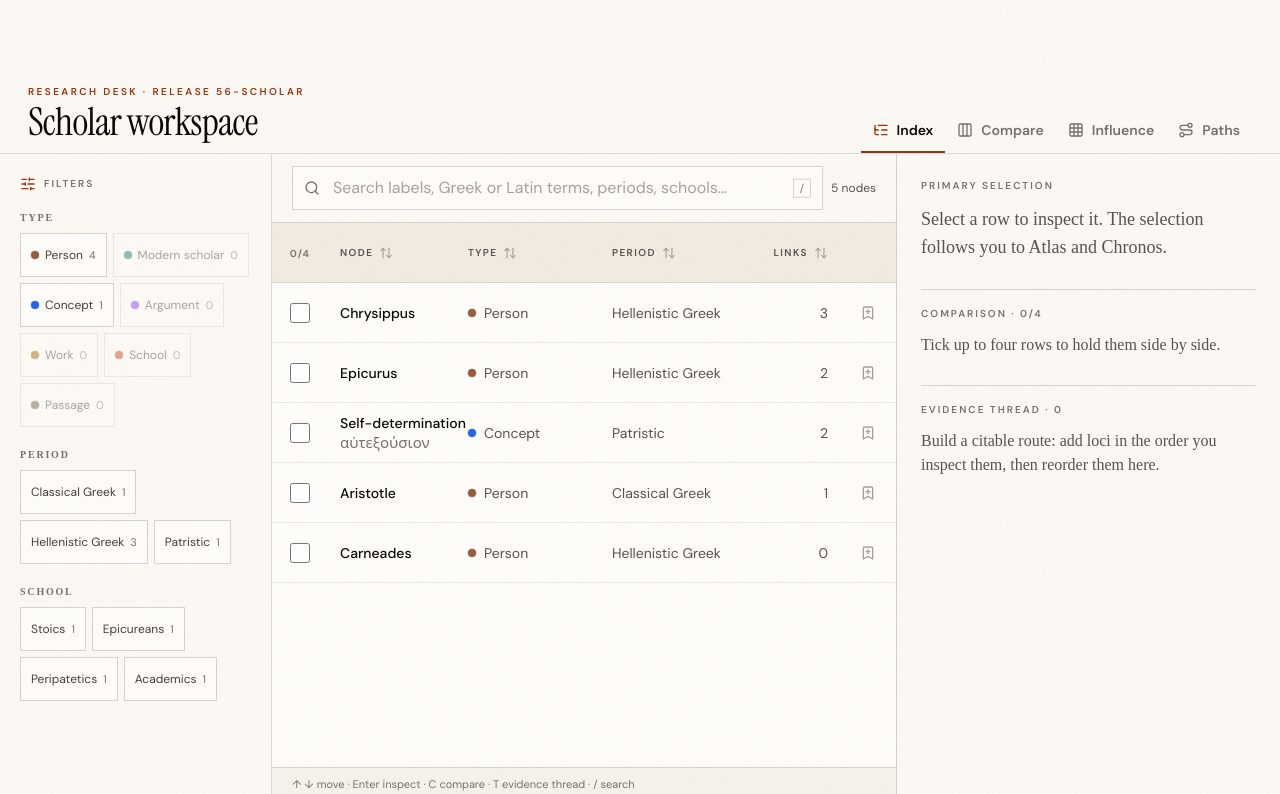
Scenario: ScholarWorkspace › supports keyboard navigation, caps comparison at four, and opens the compare view
This screenshot has width=1280, height=794.
Expected: the button "Chrysippus" is shown, [328,291,456,335]
Click the search field named "Search this release" at (558, 188), box [292,166,823,210]
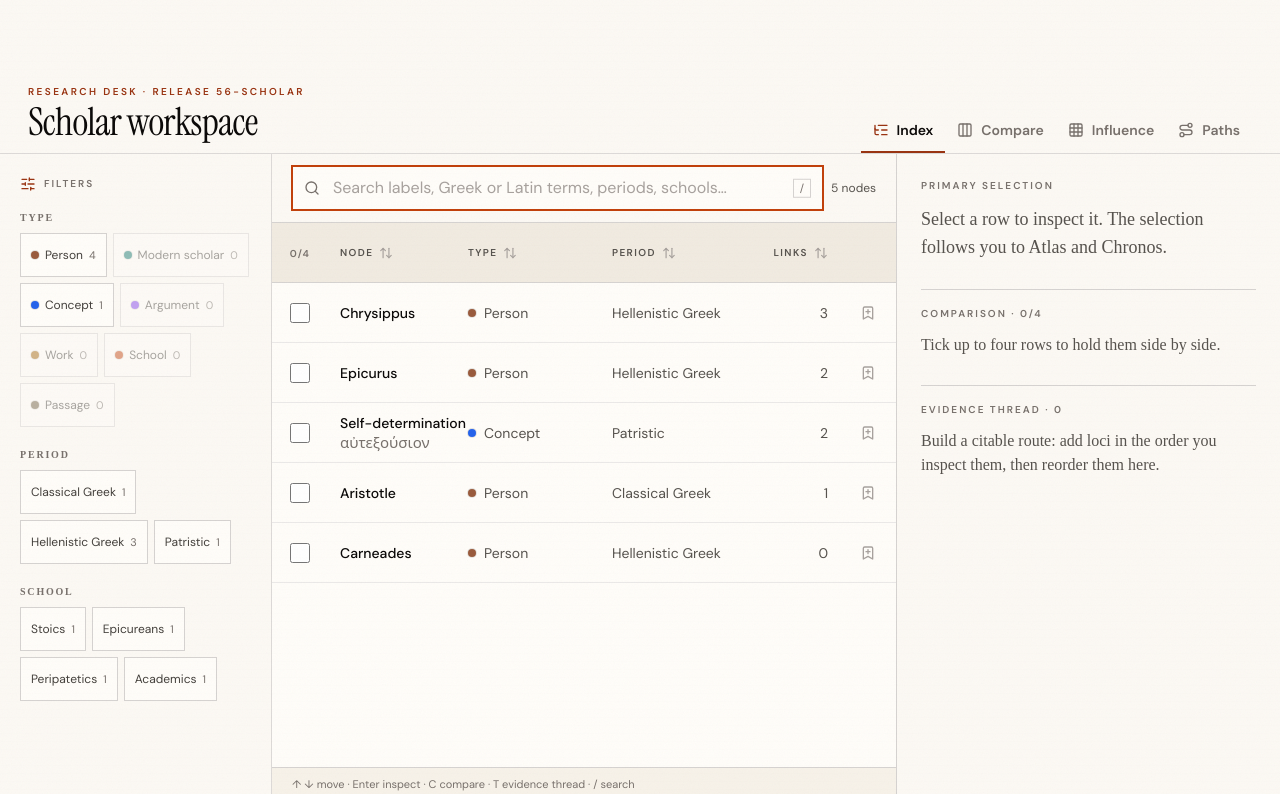
Press Arrowdown
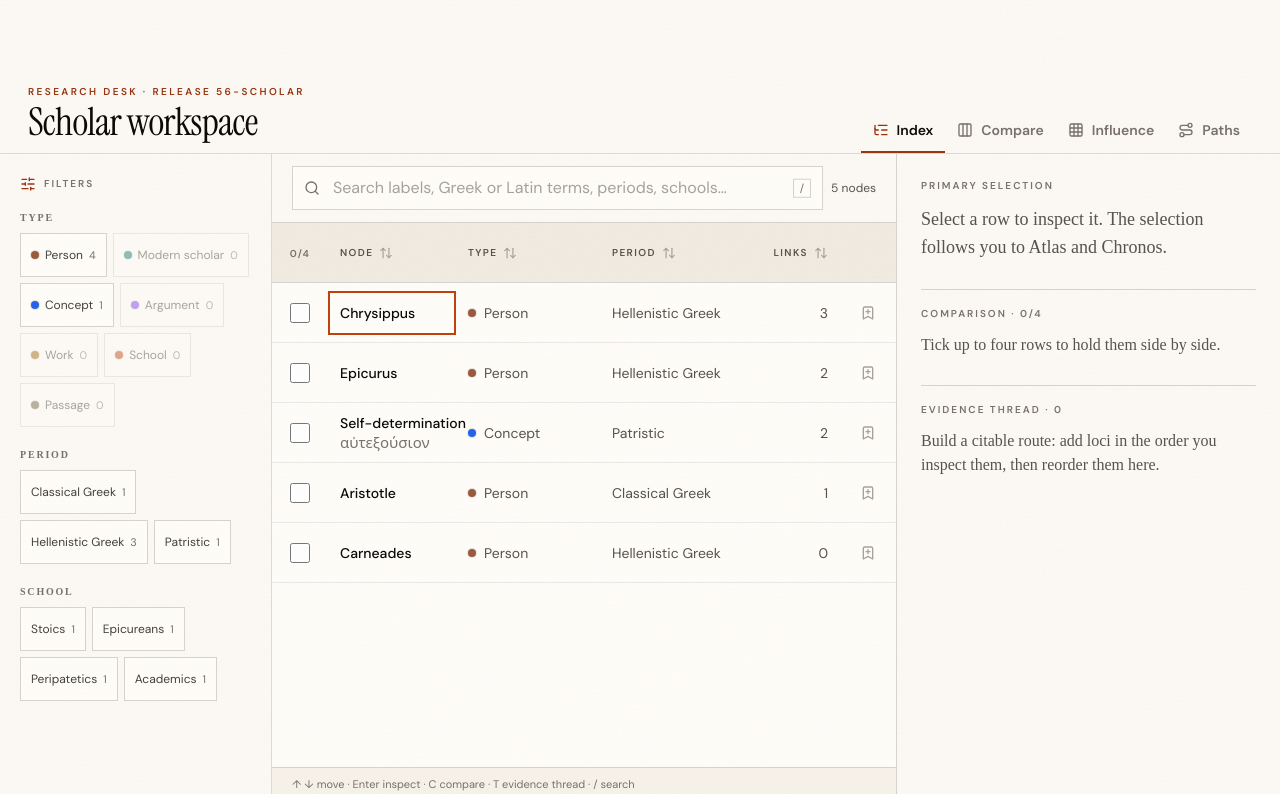
Press Arrowdown
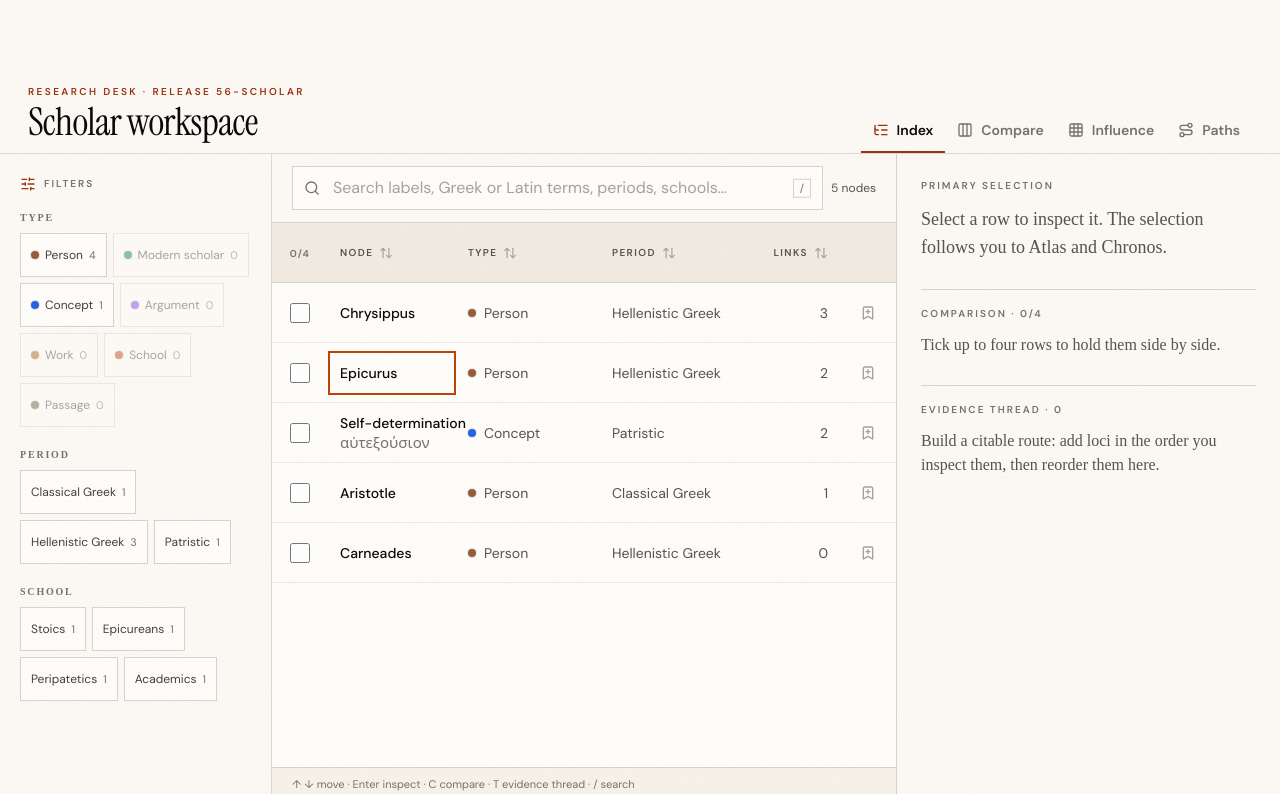
Type keys "c"
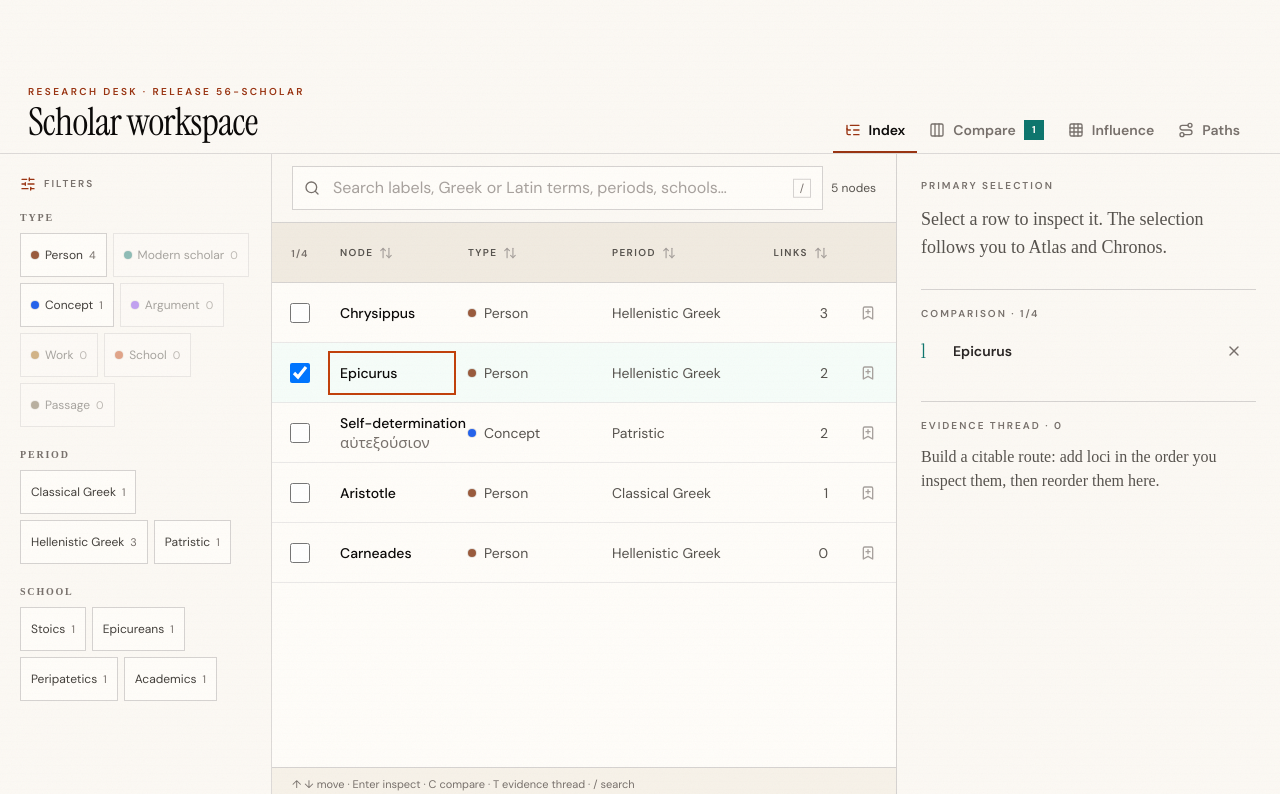
Type keys "{Home}c{ArrowDown}{ArrowDown}c{ArrowDown}c"
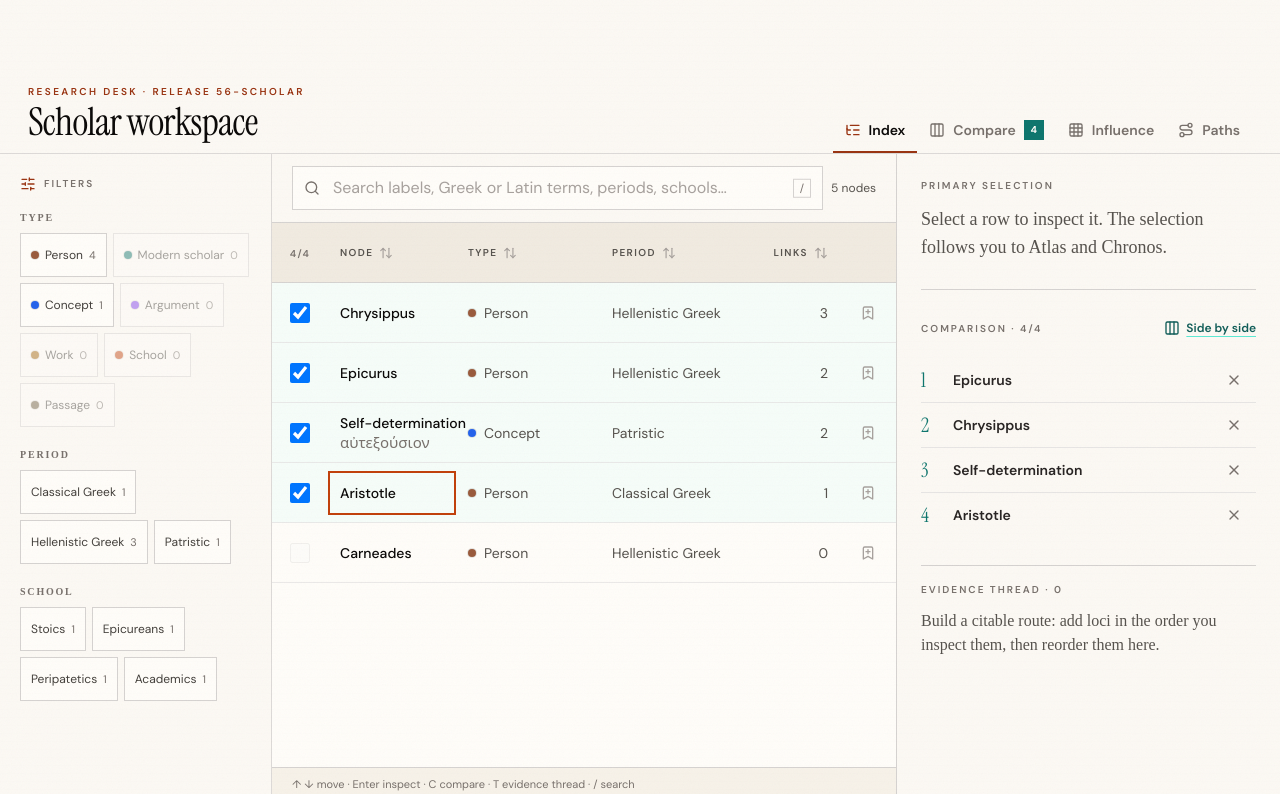
Click the tab "Compare 4" at (987, 131), box [917,109,1056,153]
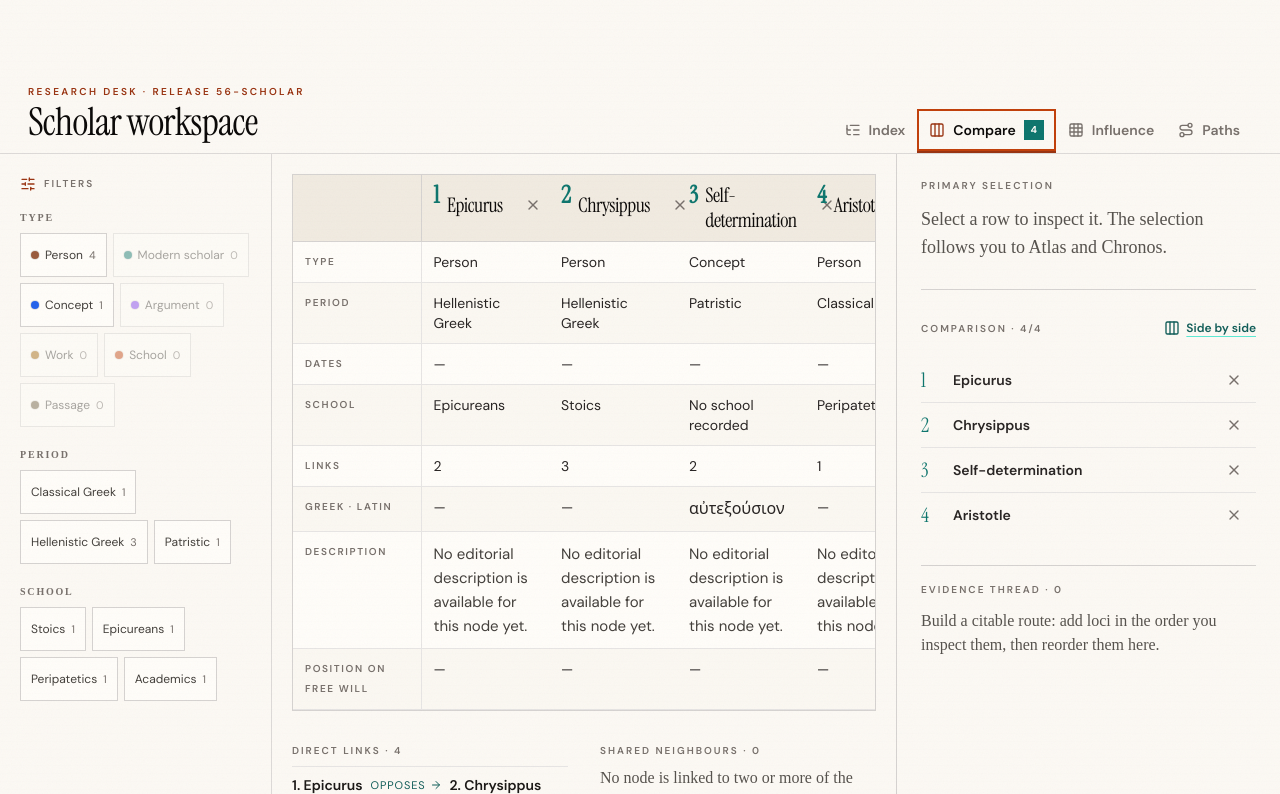
Expected: the table named "Side-by-side comparison of the selected nodes" is shown, [293,175,876,710]
Result: the heading "Shared neighbours · 0" is shown at [600,744,761,757]
